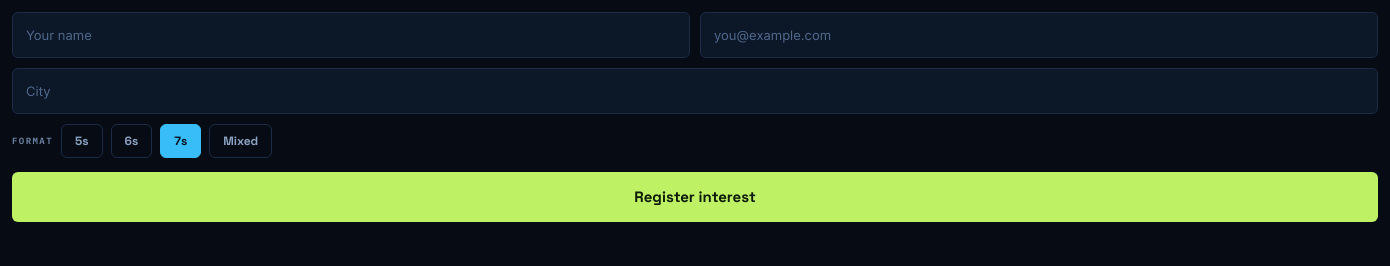
Test: WaitlistForm › shows an error line when the request fails
This screenshot has width=1390, height=266.
In the field with placeholder "Your name": coordinates (351, 35) x1=12 y1=12 x2=690 y2=58, type "Will"
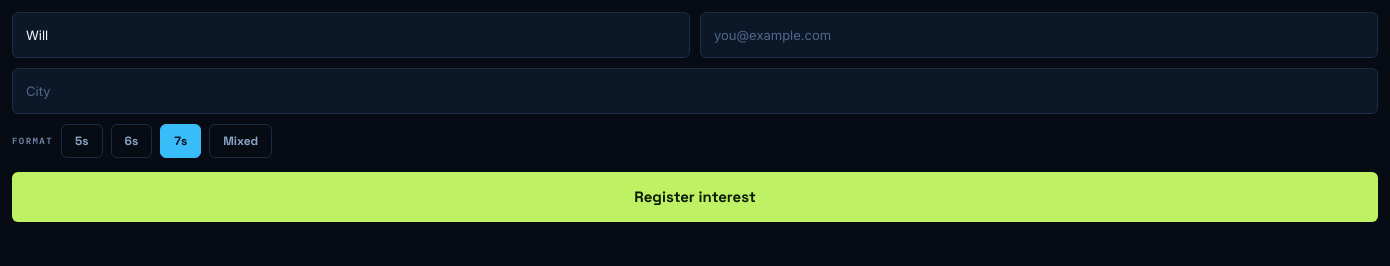
In the field with placeholder "you@example.com": coordinates (1039, 35) x1=700 y1=12 x2=1378 y2=58, type "will@example.com"
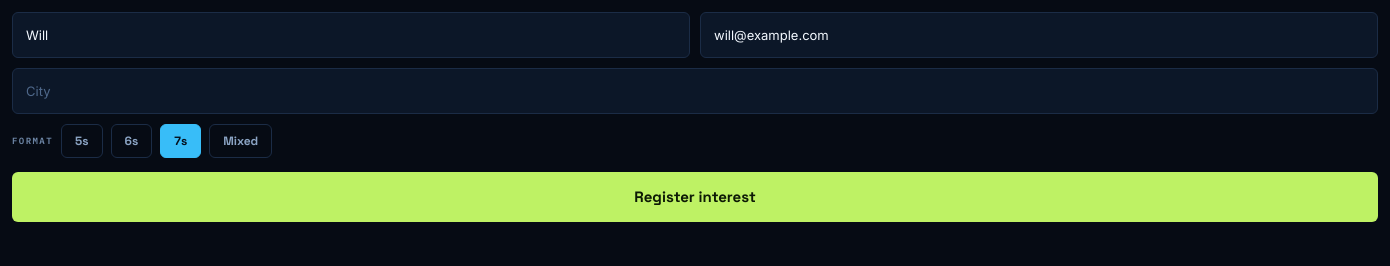
Click the button "Register interest": coordinates (695, 197) x1=12 y1=172 x2=1378 y2=222
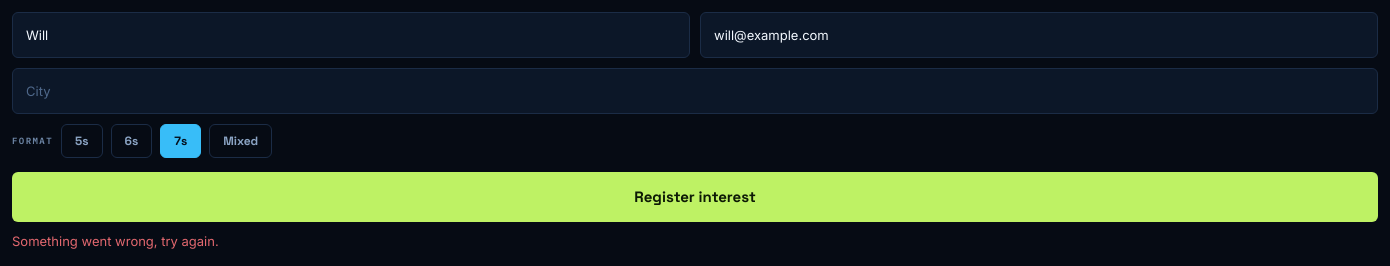
Expected: the text "Something went wrong, try again." is shown, x1=12 y1=233 x2=219 y2=249
